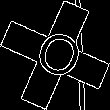O_SW: (25, 23, 85, 87)
